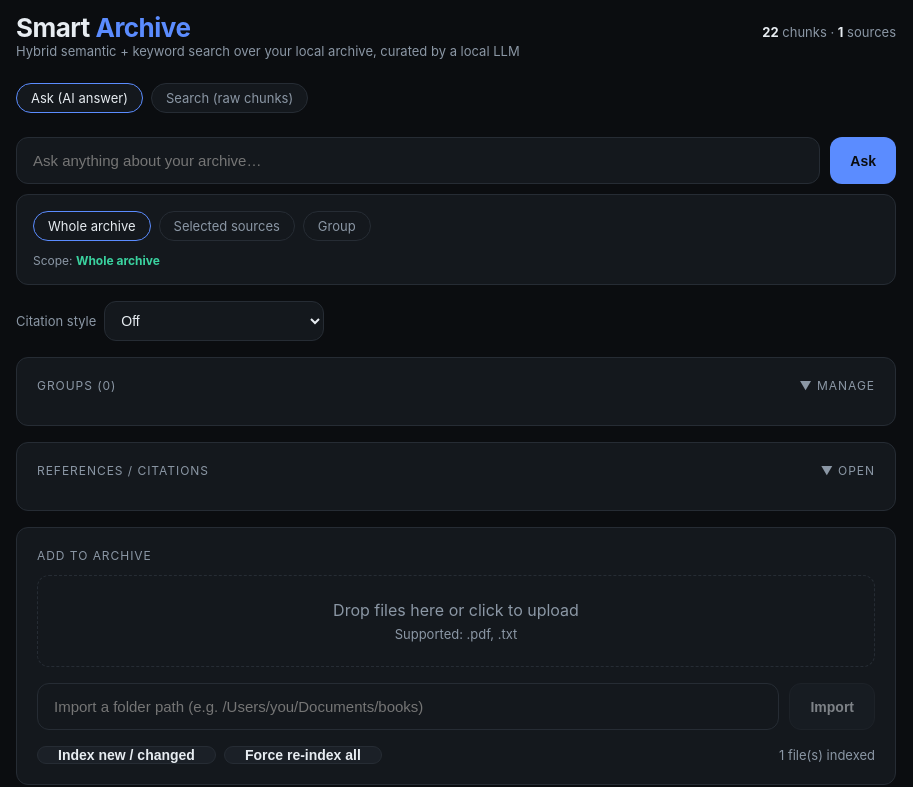
Test case: vision-ingest querying lock › renders content_type tags on search results
Expected: the button "Ask" is enabled, 830,137 -> 896,184
Click the text "Search (raw chunks)".
click(230, 98)  # box 151,83 -> 308,113
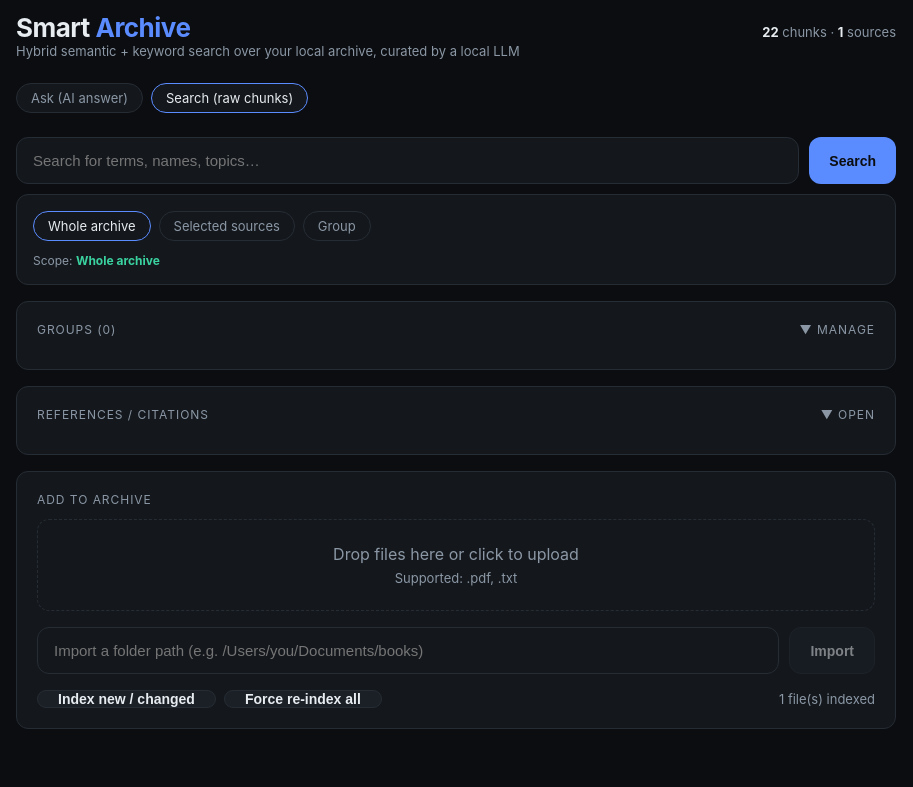
Type "revenue" into the field with placeholder "Search for terms, names, topics…".
click(408, 160); type("revenue")  # box 16,137 -> 799,184
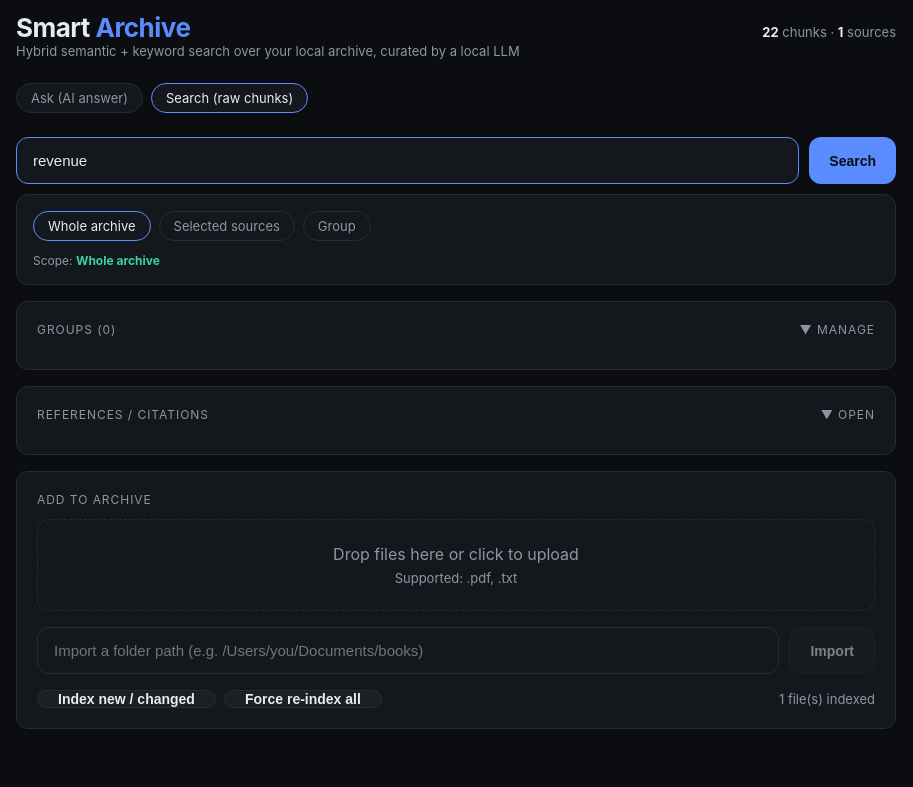
Click the button "Search".
click(853, 160)  # box 809,137 -> 896,184
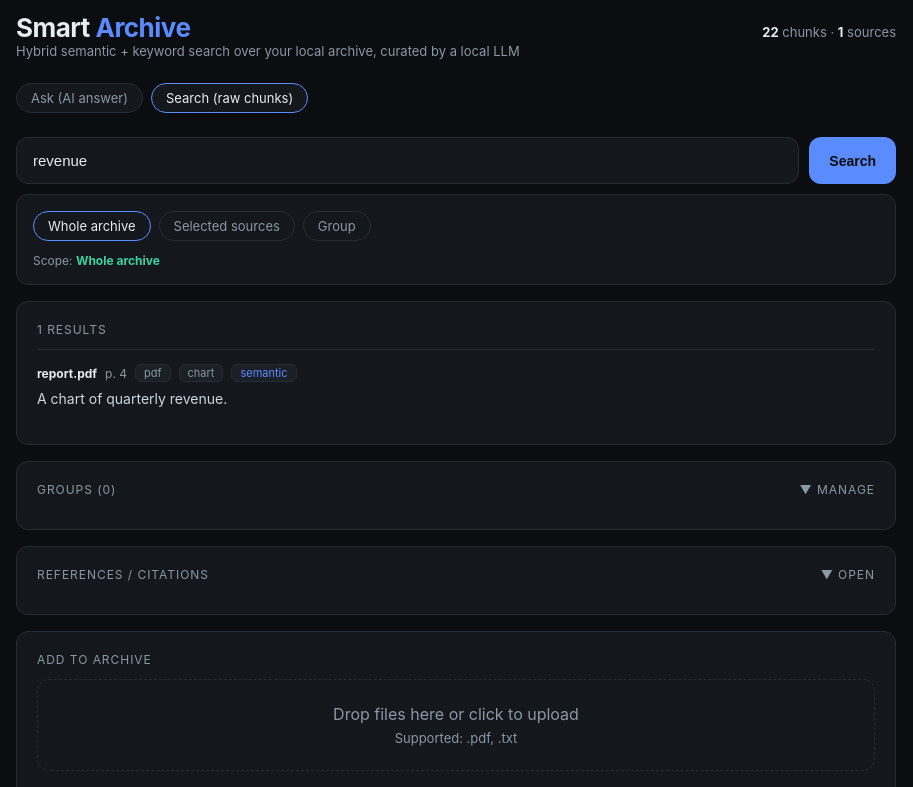
Now the text "chart" is shown, box 179,364 -> 224,382
